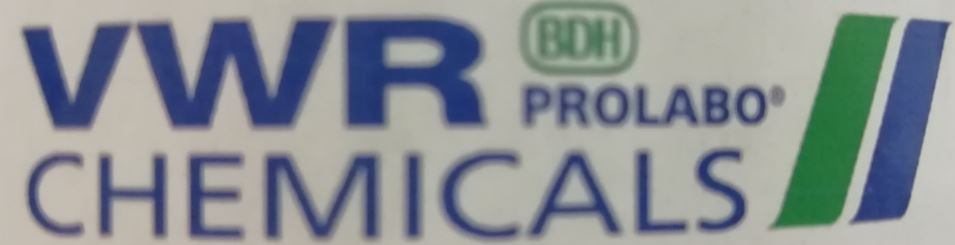VWR: (17, 3, 953, 239)
